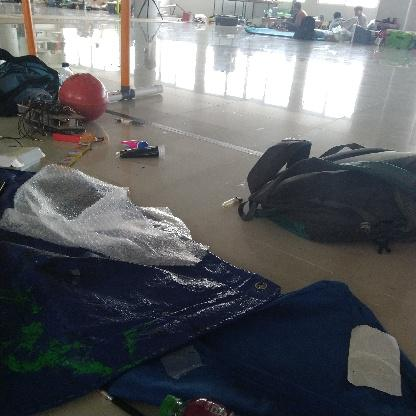red_buoy: (58, 72, 111, 124)
